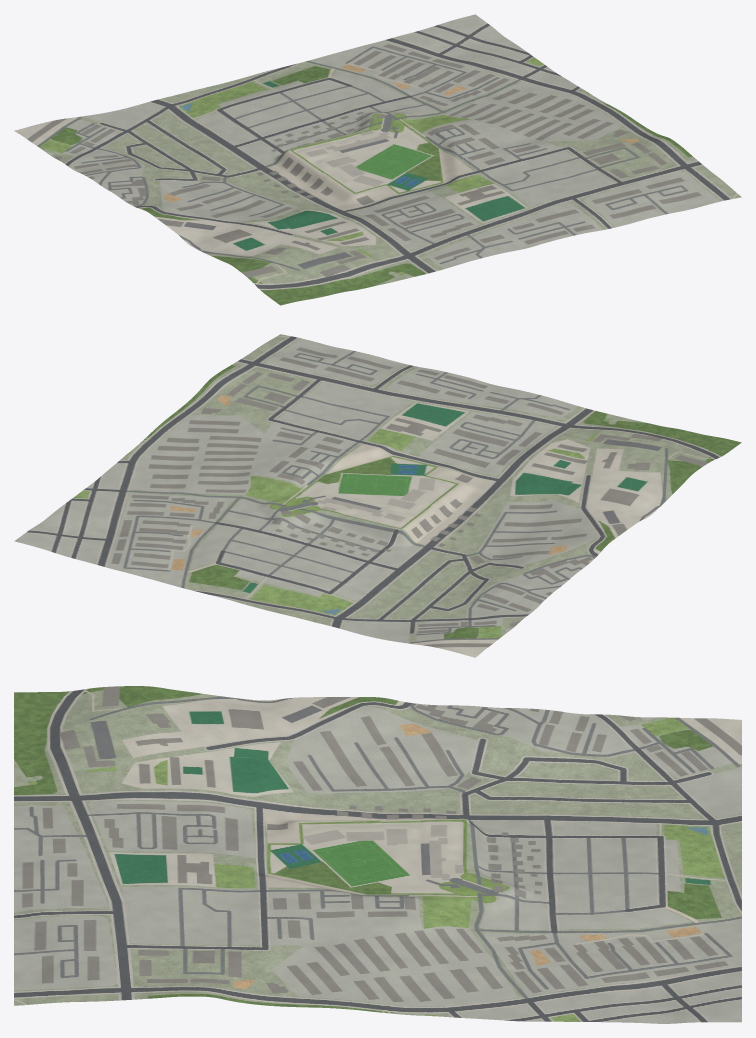
The picture shows the model from 3 angles, top to bottom: view 1: azimuth 30°, elevation 25°; view 2: azimuth 150°, elevation 25°; view 3: azimuth 270°, elevation 25°; orthographic projection. The views are drawn at different scales.
Visible parts, largest first — view 1: ground-area, ground-school; view 2: ground-area, ground-school; view 3: ground-area, ground-school.
Part boxes in pixels (x1=…): ground-area: x1=14, y1=14, x2=741, y2=305; ground-school: x1=265, y1=113, x2=499, y2=212; ground-area: x1=14, y1=334, x2=741, y2=657; ground-school: x1=263, y1=434, x2=496, y2=550; ground-area: x1=14, y1=686, x2=741, y2=1023; ground-school: x1=244, y1=809, x2=492, y2=909.
Size of the model in its own units: 784 by 48.47 by 784.
Materials: 2 (2 with a texture image).
